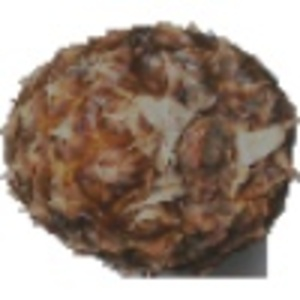abacaxi: (5, 20, 295, 273)
